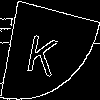K: (24, 25, 61, 77)
